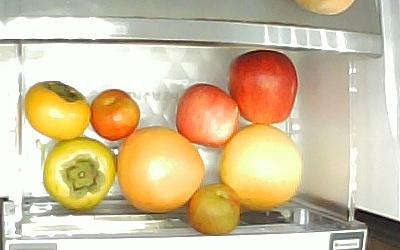apple: (226, 48, 298, 125), (174, 82, 240, 148)
grapefruit: (115, 124, 206, 213), (217, 121, 302, 211)
persimmon: (41, 135, 115, 209), (23, 79, 91, 140)
prune: (185, 181, 240, 235), (89, 87, 141, 141)
